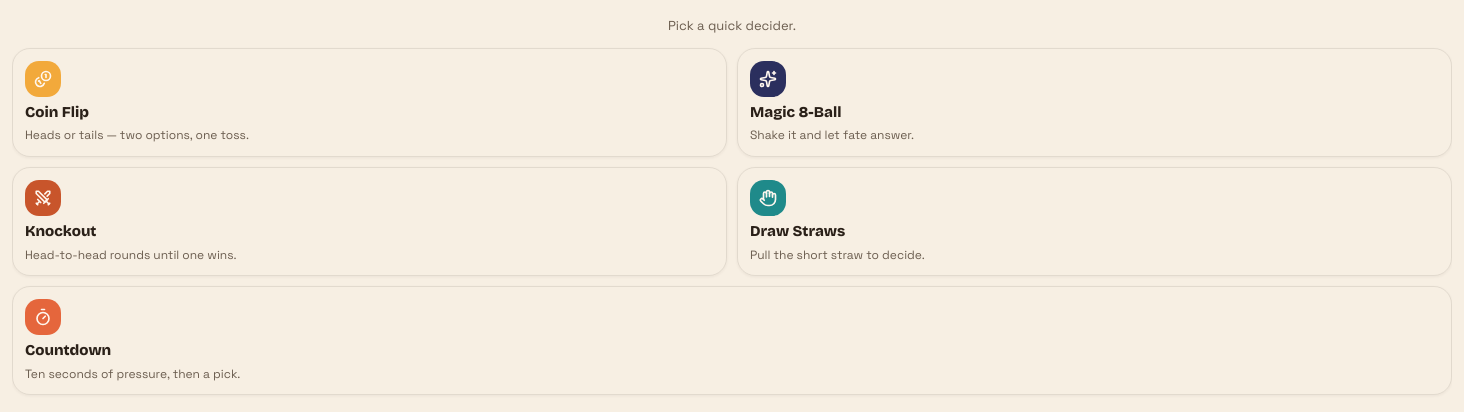
Test: knockout bracket › shows round/match progress for a 4-option field
Click the button with test id "bonus-menu-bracket" at coordinates (43, 198), box [12,167,727,276]
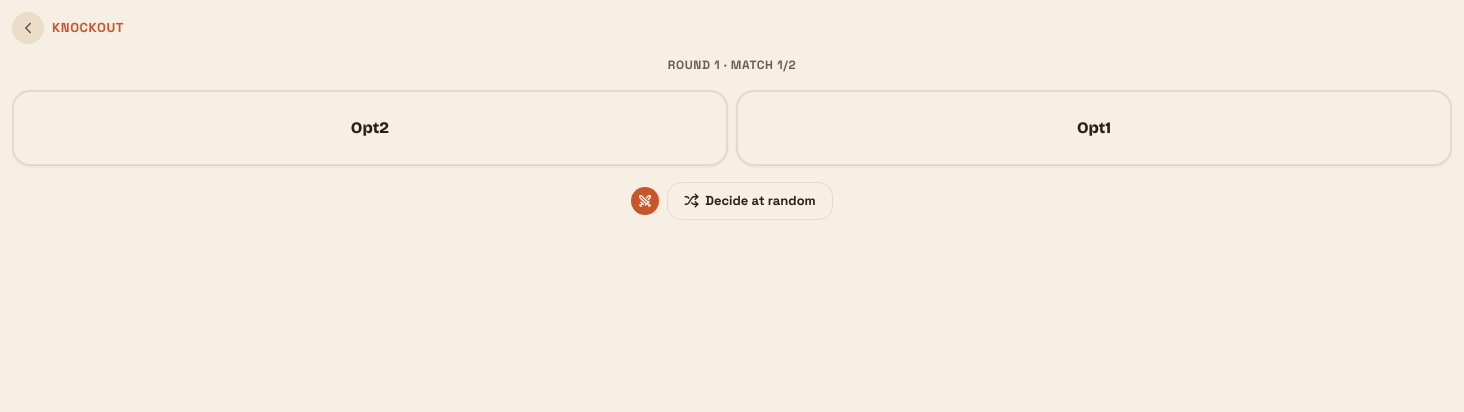
Now the text "Round 1 · Match 1/2" is shown, box [668,57,796,73]
